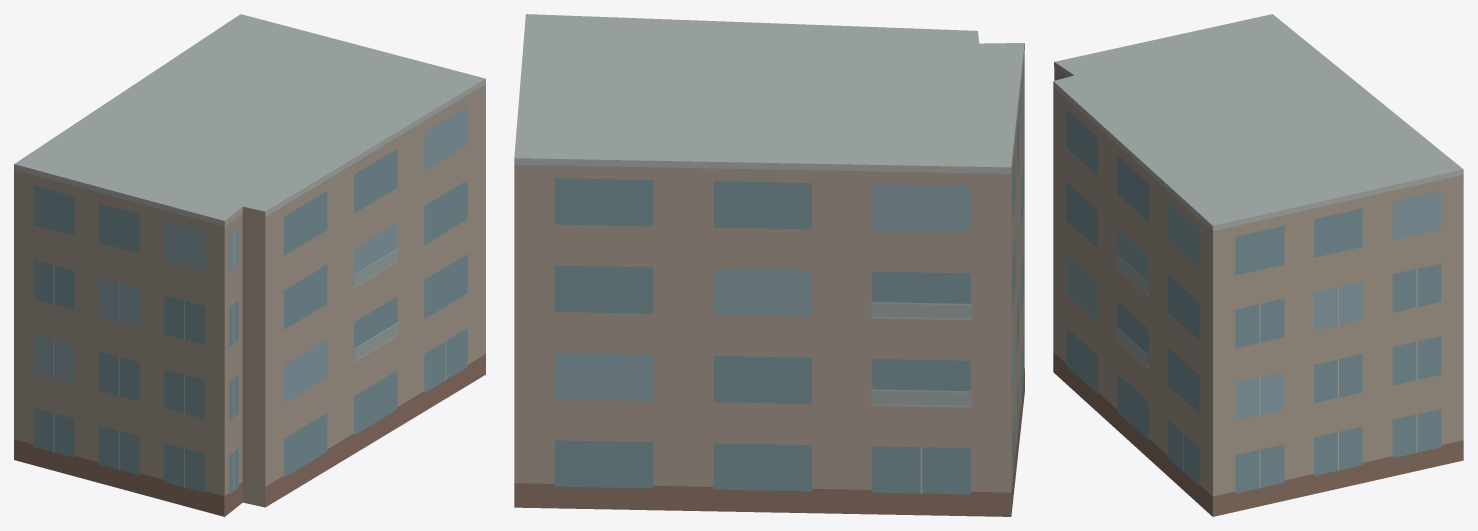
Rendered from survey-upis-32827771.glb.
3 views of the same model, side by side, from view 1: azimuth 30°, elevation 25°; view 2: azimuth 150°, elevation 25°; view 3: azimuth 270°, elevation 25° (orthographic). The views are drawn at different scales.
Visible parts, largest first — view 1: survey-upis-32827771.tmp; view 2: survey-upis-32827771.tmp; view 3: survey-upis-32827771.tmp.
Boxes of the visible parts, <box> form: survey-upis-32827771.tmp: <box>14,14,485,516</box>; survey-upis-32827771.tmp: <box>514,14,1024,516</box>; survey-upis-32827771.tmp: <box>1053,14,1463,516</box>.
Size of the model in its own units: 20.48 by 13.11 by 16.76.
